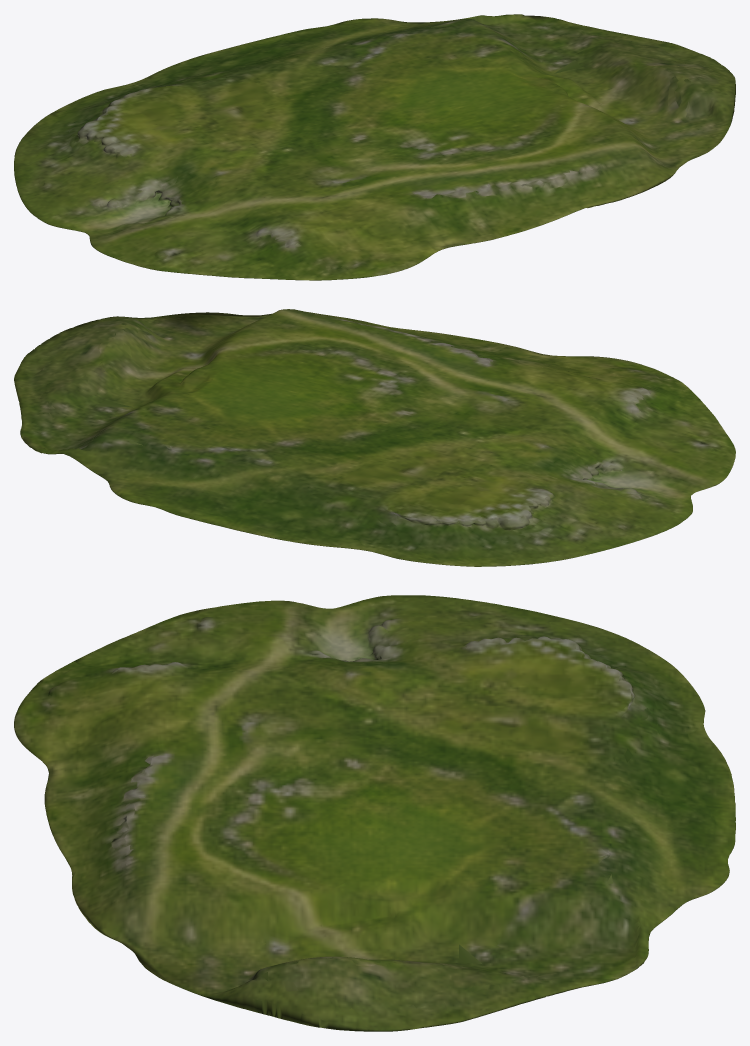
3 views of the same model, one above another, from view 1: azimuth 30°, elevation 25°; view 2: azimuth 150°, elevation 25°; view 3: azimuth 270°, elevation 25° (orthographic). The views are drawn at different scales.
Parts seen in each view (by area): view 1: Mesh_0; view 2: Mesh_0; view 3: Mesh_0.
Boxes of the visible parts, box(x1,y1,x2,y2) form: Mesh_0: box(14, 14, 735, 280); Mesh_0: box(14, 309, 735, 566); Mesh_0: box(14, 595, 735, 1031).
Size of the model in its own units: 270 by 9.33 by 190.
1 material, 1 textured.
